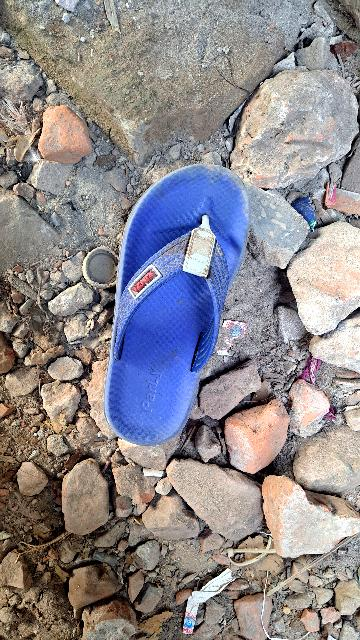sandal: (64, 142, 266, 460)
